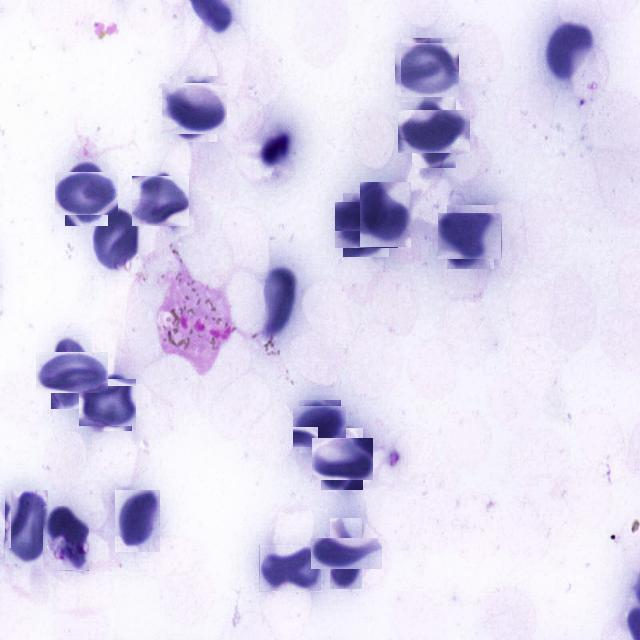red blood cell: (398, 40, 457, 100), (405, 102, 463, 160), (360, 182, 411, 247), (166, 80, 223, 138), (90, 208, 140, 274), (4, 490, 48, 565), (43, 344, 100, 401), (442, 208, 498, 264), (42, 506, 89, 571), (338, 198, 394, 252), (134, 174, 188, 228), (259, 545, 321, 592), (60, 167, 114, 220), (115, 490, 160, 552), (546, 24, 594, 82), (82, 376, 134, 429), (316, 432, 368, 484), (320, 528, 372, 580), (296, 402, 344, 450)
